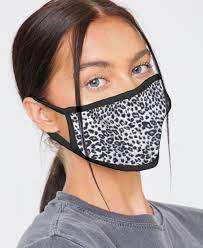FaceMask: (23, 75, 170, 171)
